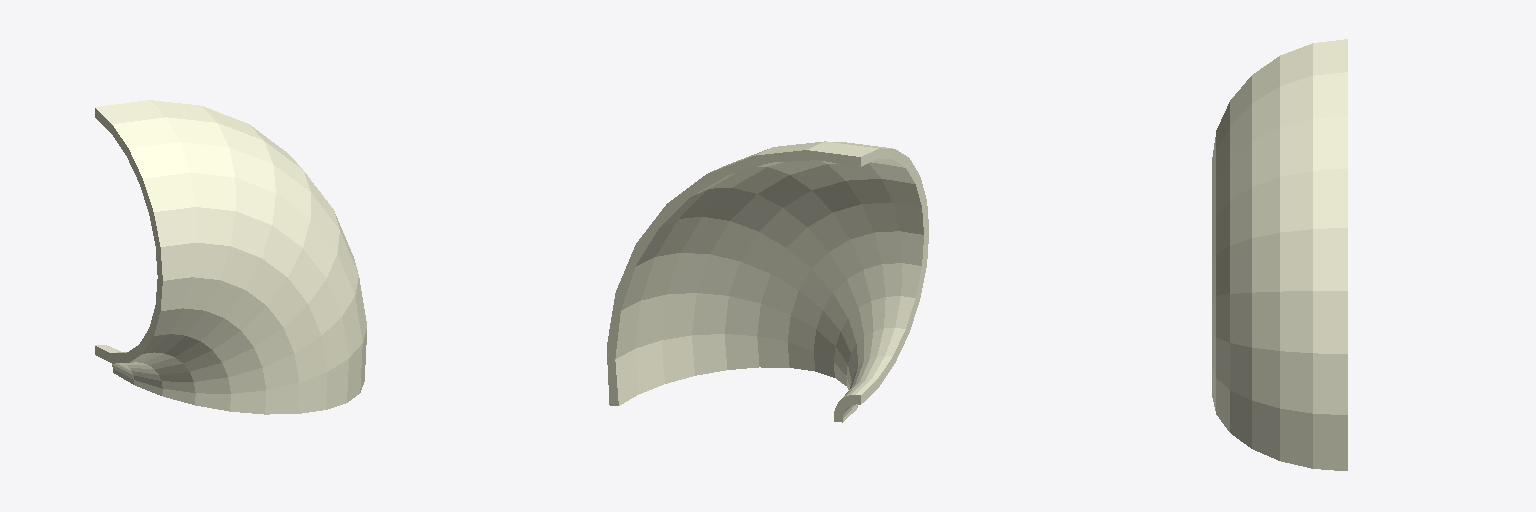
File: section_025.obj
3 views of the same model, side by side, from view 1: azimuth 30°, elevation 25°; view 2: azimuth 150°, elevation 25°; view 3: azimuth 270°, elevation 25° (orthographic).
Bounding box in the file's own units: 27.96 × 32.52 × 13.